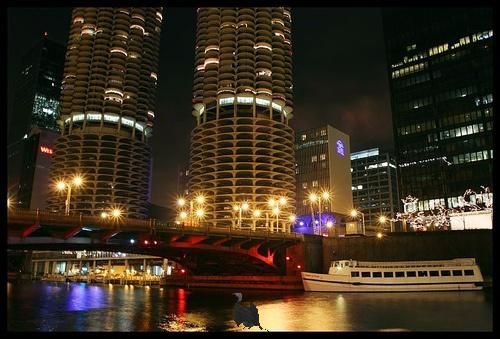tampered: (233, 294, 287, 332)
